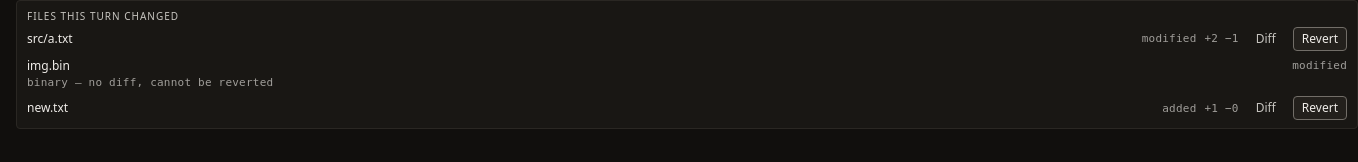
Test: TurnDiffPanel › explains a revert that cannot happen because the folder is gone
Click the button with aria-label "Revert new.txt": click(1320, 108) [1293,96,1347,120]
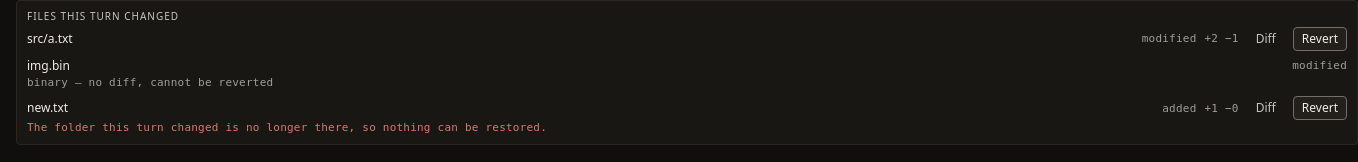
Expected: the message shows "no longer there", [27,121,547,134]
